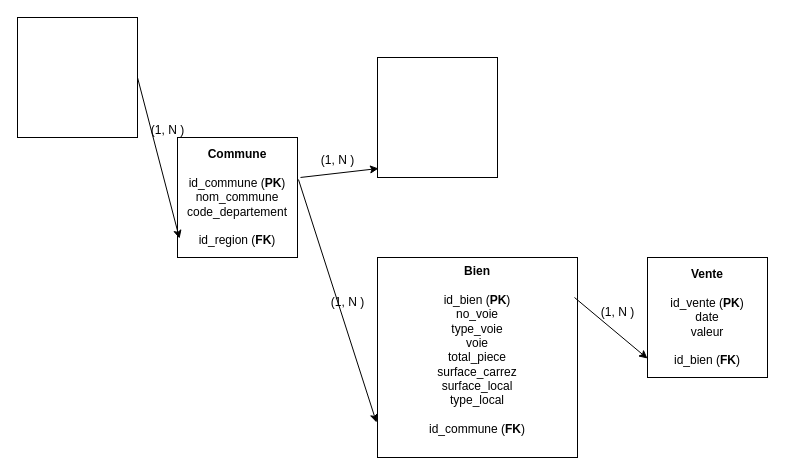
This 785x475 diagram has some shape labels left out. Here are the shapes that lost their labels. From the top down, the centre of each, then its label:
At (77,77): "Région id_region ( PK ) nom_region".
At (437,117): "Population id_population ( PK ) annee population id_commune ( FK )".
